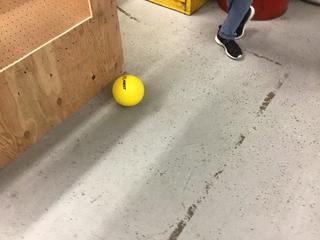power_cell: (110, 70, 149, 109)
